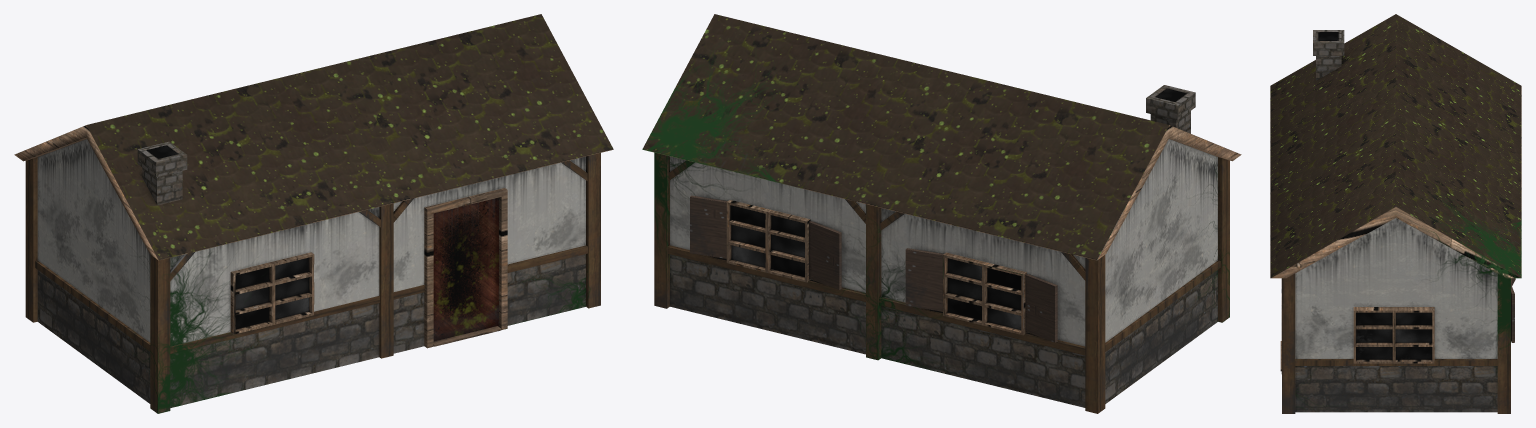
Rendered from medieval_house_3.glb.
3 views of the same model, side by side, from view 1: azimuth 30°, elevation 25°; view 2: azimuth 150°, elevation 25°; view 3: azimuth 270°, elevation 25° (orthographic). The views are drawn at different scales.
Parts seen in each view (by area): view 1: polySurface29; view 2: polySurface29; view 3: polySurface29.
Part boxes in pixels (x1,y1,x2,y2): polySurface29: (14, 14, 613, 413); polySurface29: (642, 14, 1241, 413); polySurface29: (1270, 14, 1521, 413).
Bounding box in the file's own units: 12.47 × 6.34 × 6.87.
1 material, 1 textured.
